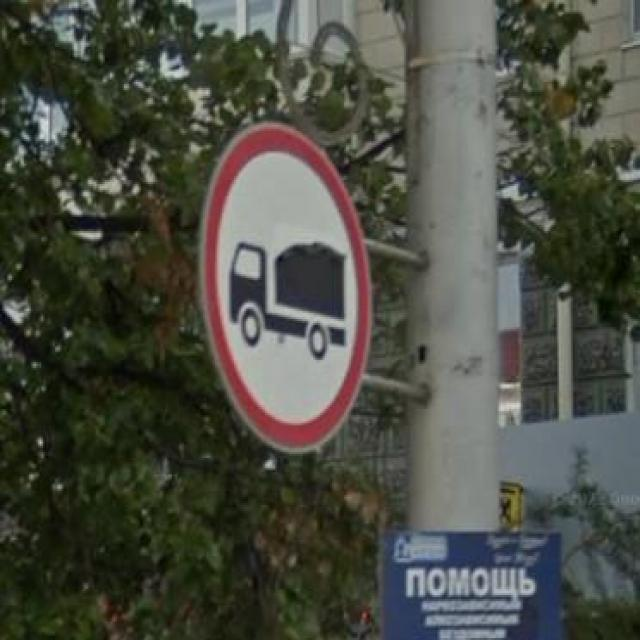traffic_sign: (198, 119, 373, 454)
